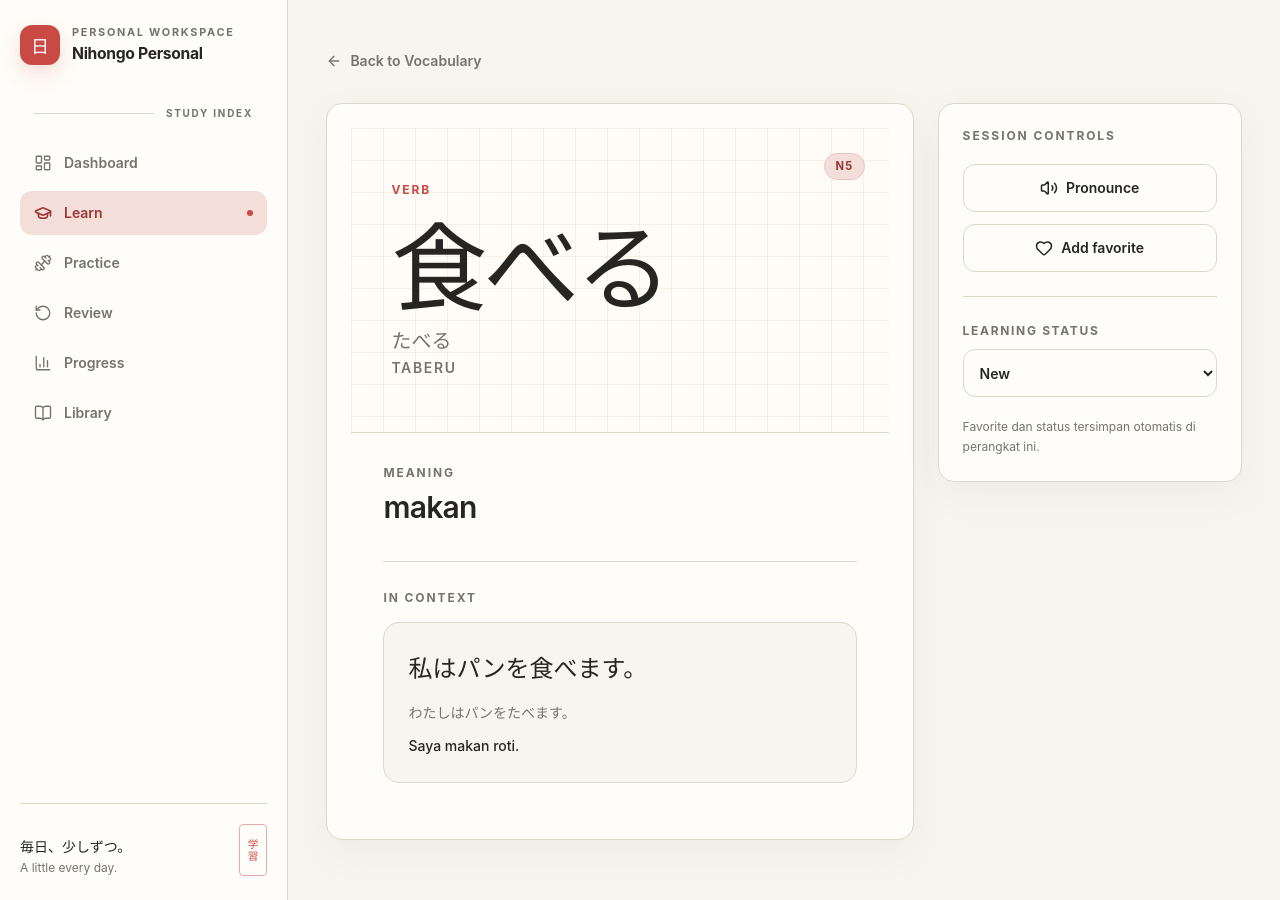
Scenario: Vocabulary learning › keeps favorite and learning status during route navigation
Click the button with aria-label "Add 食べる to favorites": (1090, 248) [963,224,1217,272]
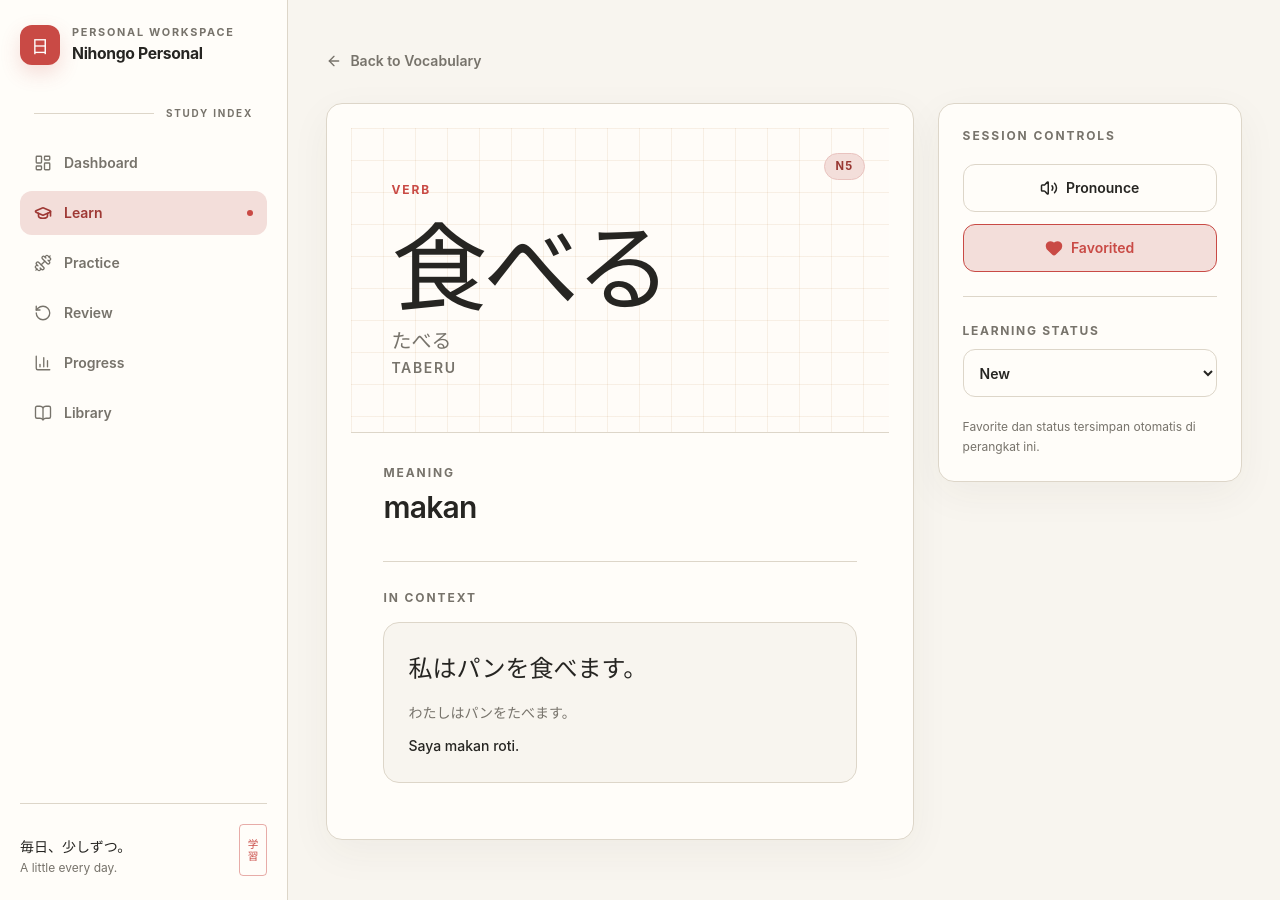
Select "Learning" in the dropdown labelled "Learning status": (1090, 373) [963,349,1217,397]
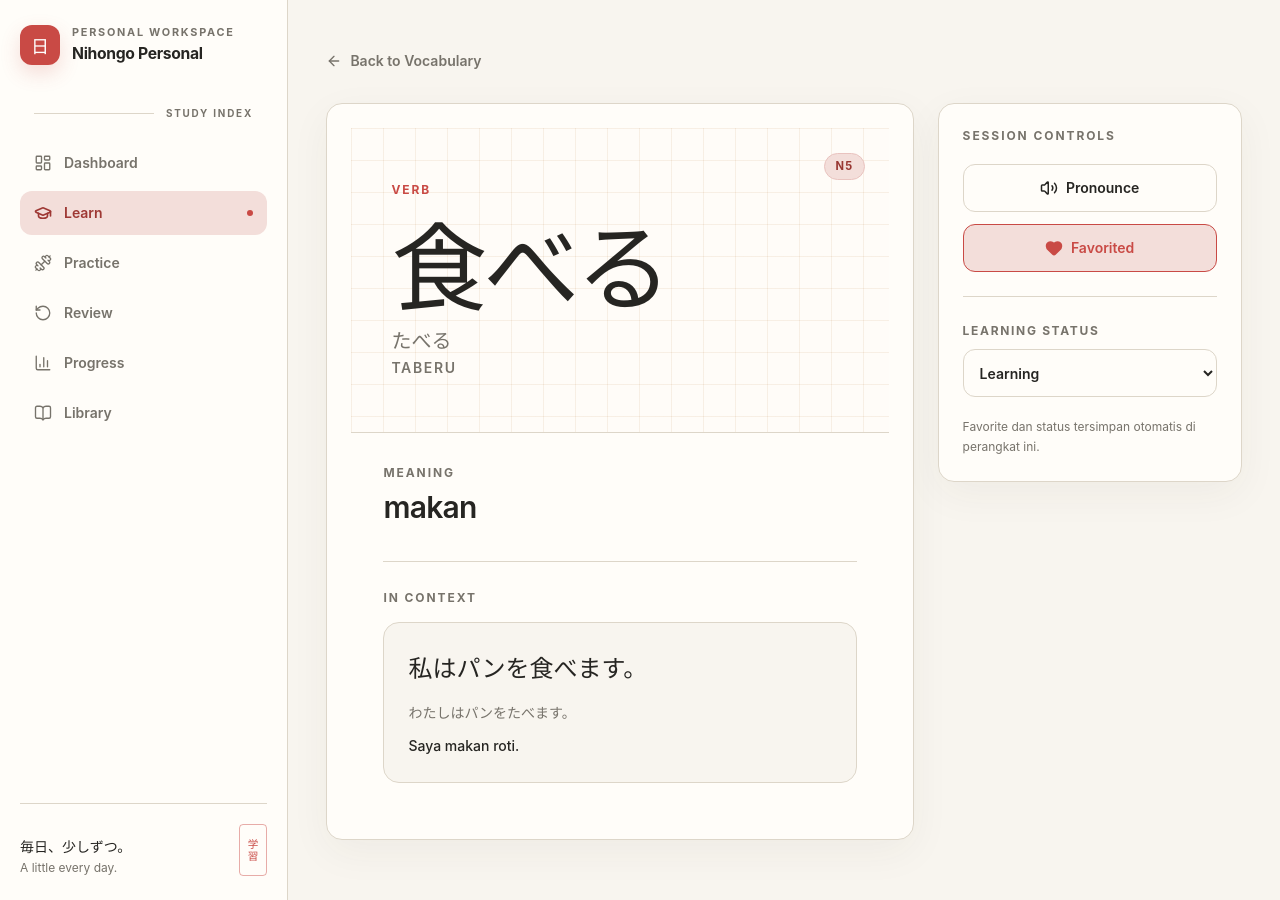
Click the link "Back to Vocabulary": (404, 61) [326,51,481,71]
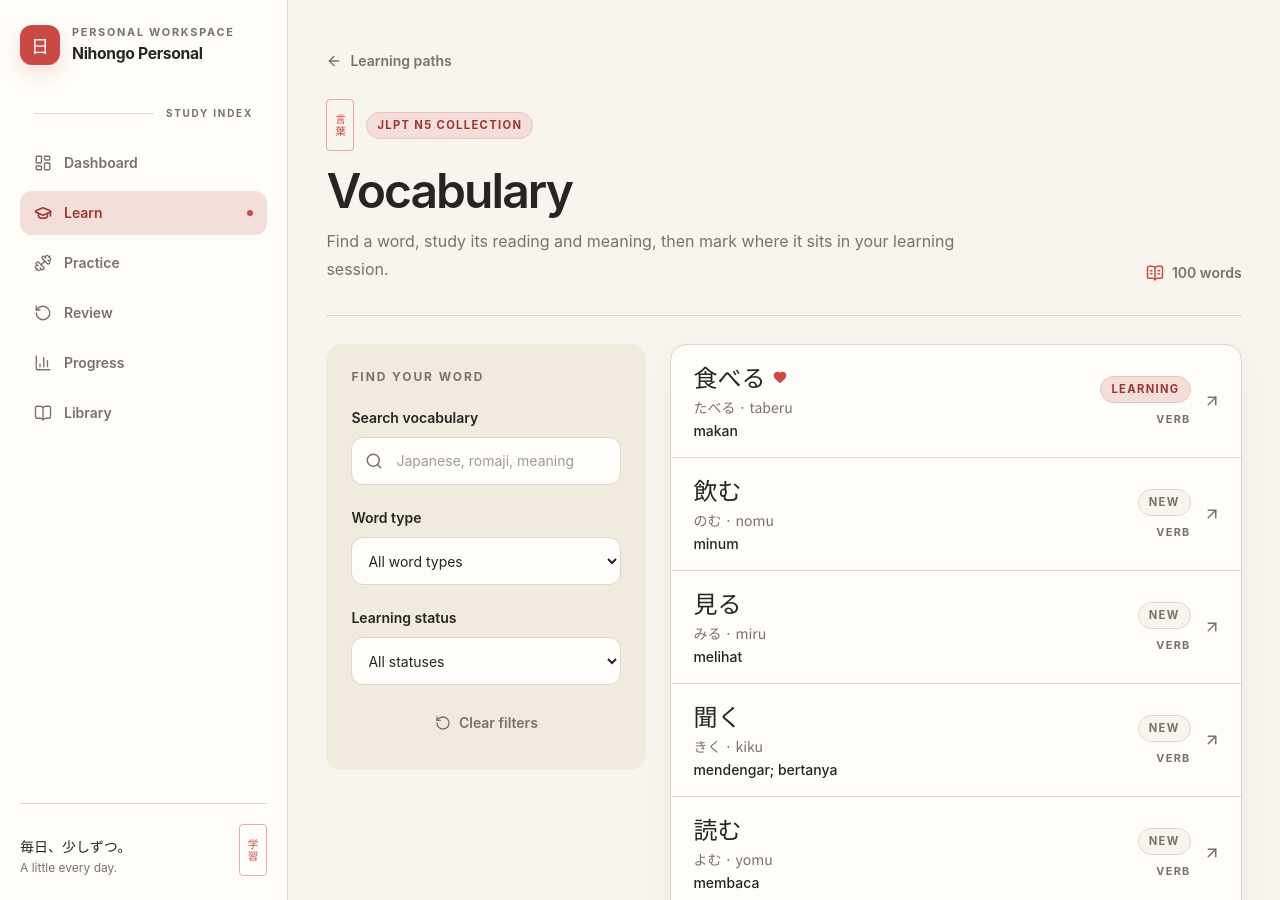
Click the link with aria-label "Study 食べる": (729, 377) [673,345,1241,457]
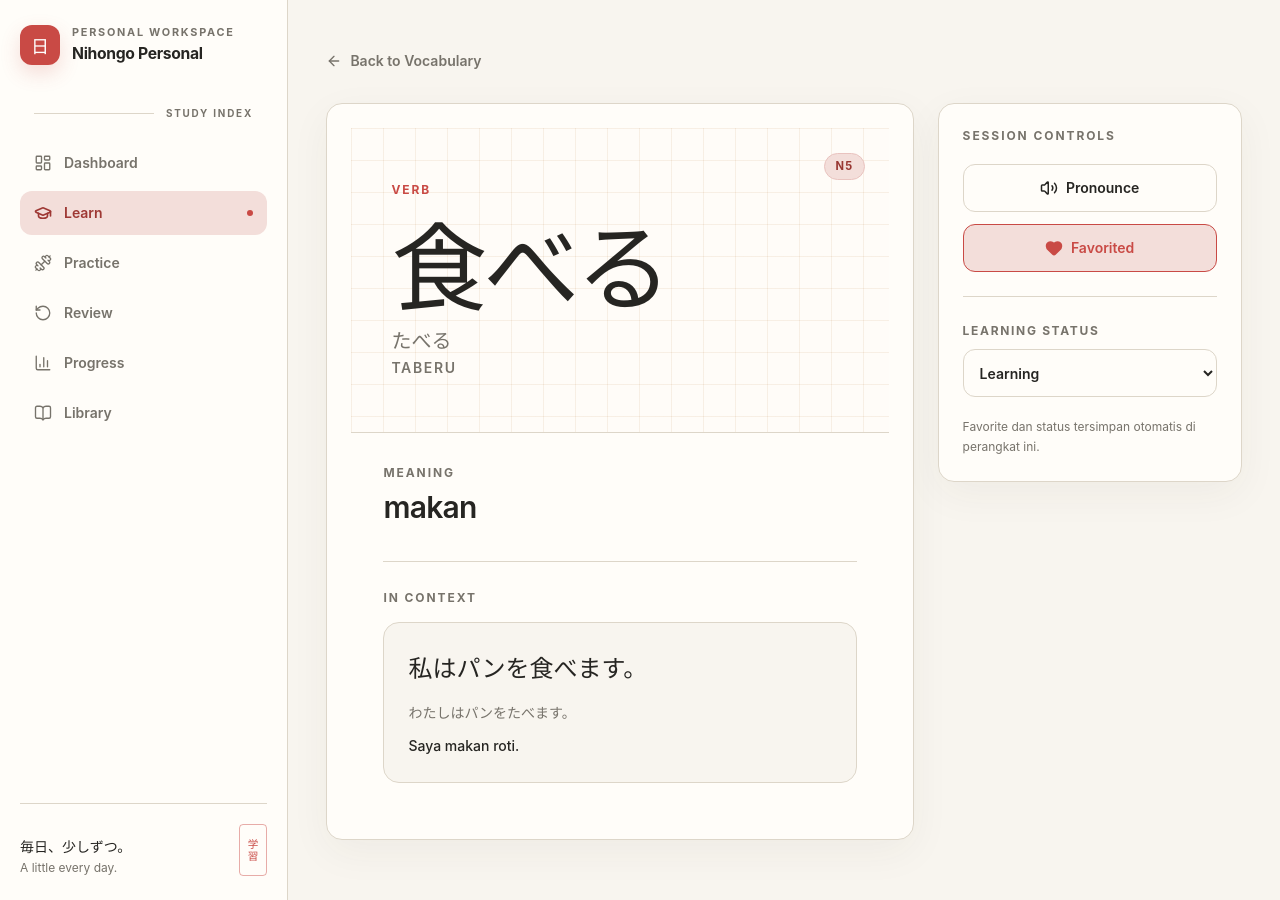
Check: the dropdown labelled "Learning status" shows "Learning", box [963,349,1217,397]
